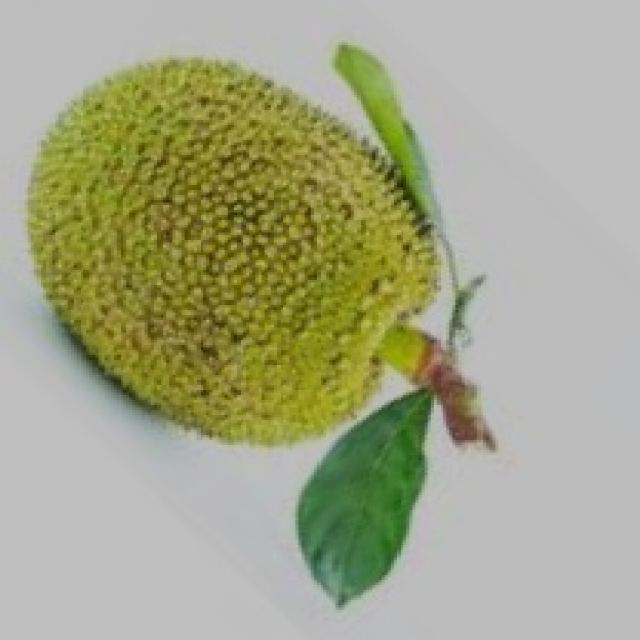Fruit: (0, 32, 455, 465)
